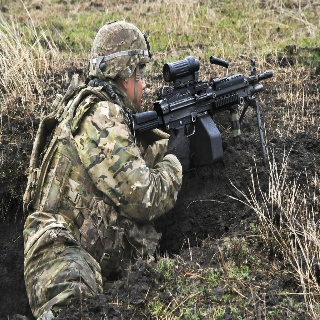rifle: (130, 54, 274, 165)
